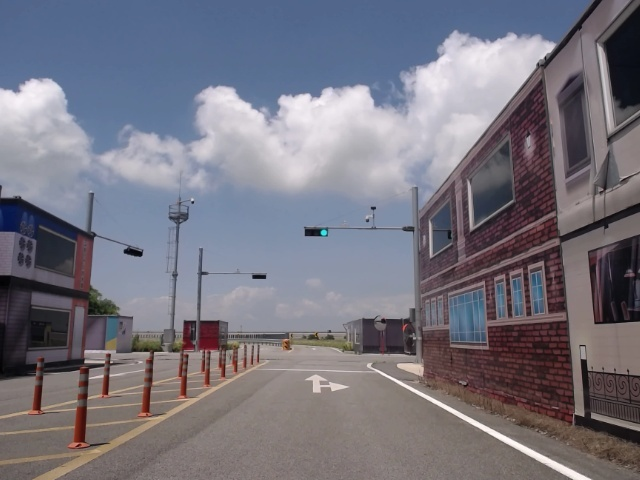green_3: (305, 229, 328, 236)
